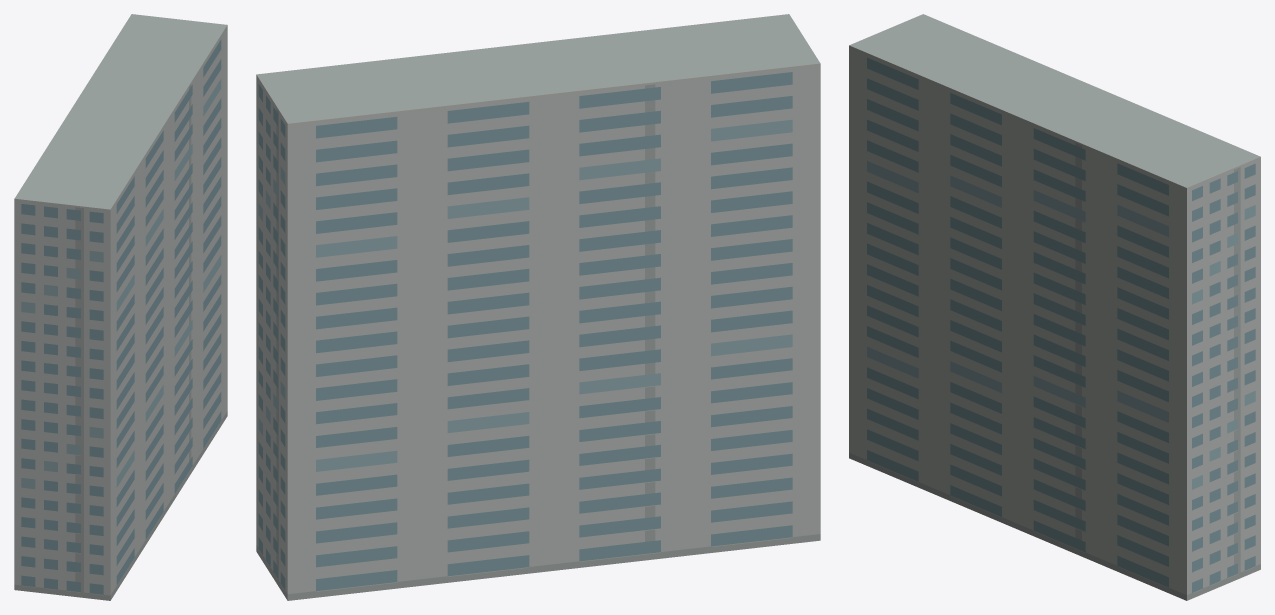
The model's file is residential-ffa3bdd6-9f26-49e9-8a9a-7ec7c129b5af.glb.
The picture shows the model from 3 angles, left to right: view 1: azimuth 30°, elevation 25°; view 2: azimuth 150°, elevation 25°; view 3: azimuth 270°, elevation 25°; orthographic projection. The views are drawn at different scales.
Parts seen in each view (by area): view 1: residential-ffa3bdd6-9f26-49e9-8a9a-7ec7c129b5af.tmp; view 2: residential-ffa3bdd6-9f26-49e9-8a9a-7ec7c129b5af.tmp; view 3: residential-ffa3bdd6-9f26-49e9-8a9a-7ec7c129b5af.tmp.
Boxes of the visible parts, <box> form: residential-ffa3bdd6-9f26-49e9-8a9a-7ec7c129b5af.tmp: <box>14,14,227,600</box>; residential-ffa3bdd6-9f26-49e9-8a9a-7ec7c129b5af.tmp: <box>256,14,820,600</box>; residential-ffa3bdd6-9f26-49e9-8a9a-7ec7c129b5af.tmp: <box>849,14,1260,600</box>.
Bounding box in the file's own units: 52.42 × 58 × 52.43.
